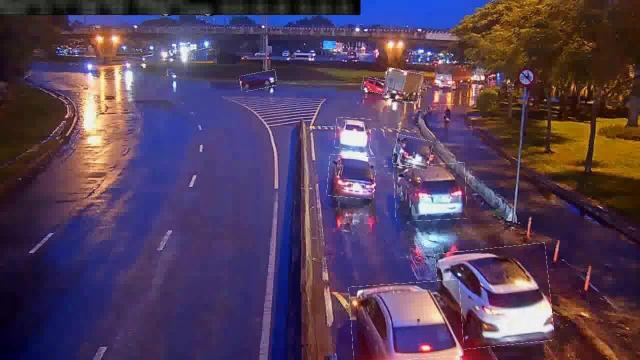Bike: (441, 104, 455, 122)
Car: (438, 246, 552, 348), (350, 281, 462, 359), (394, 164, 466, 221), (327, 156, 375, 198), (392, 136, 432, 168), (335, 118, 371, 148), (240, 72, 276, 90), (362, 78, 388, 94)
Truck: (382, 70, 422, 102), (434, 63, 471, 89)
